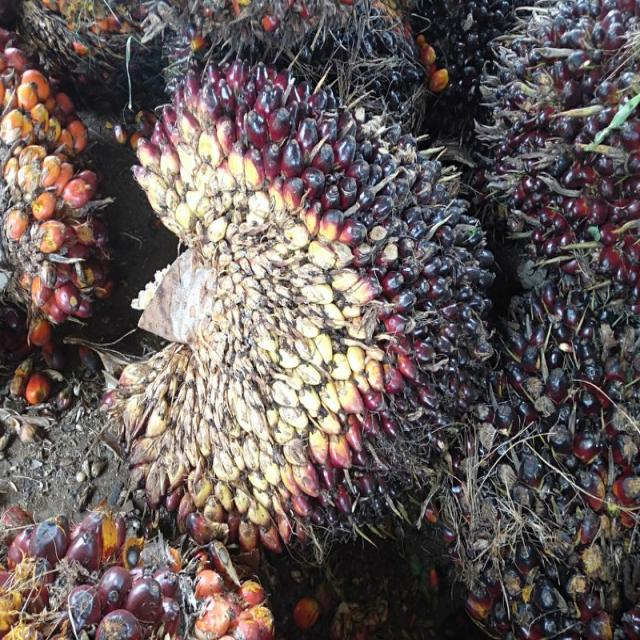fraksi 00: (143, 61, 496, 551)
